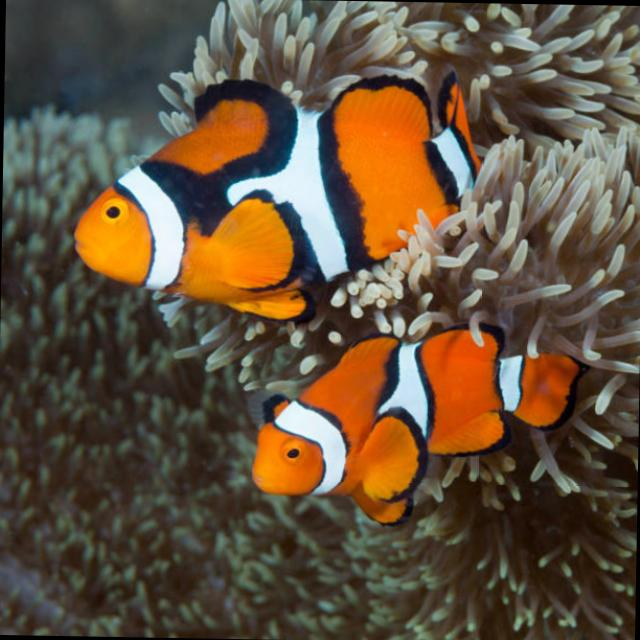ClownFish: (73, 64, 482, 325), (250, 320, 582, 532)
